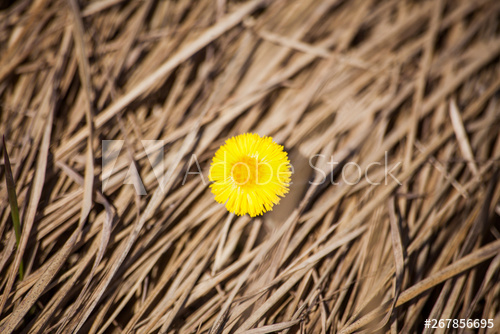dandelion: (209, 138, 291, 217)
